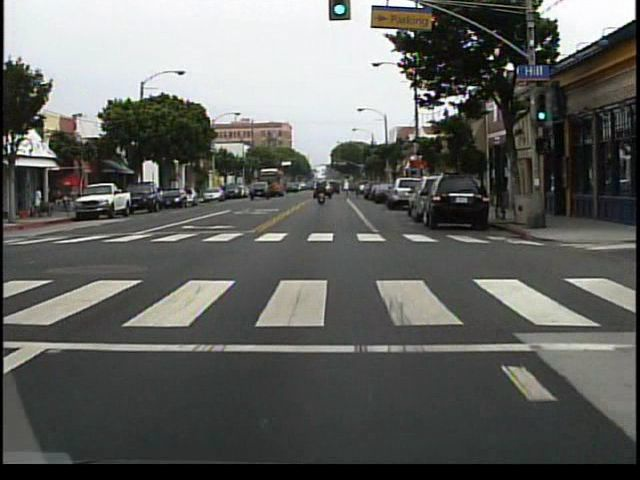person: (34, 182, 47, 220), (315, 183, 328, 210)
